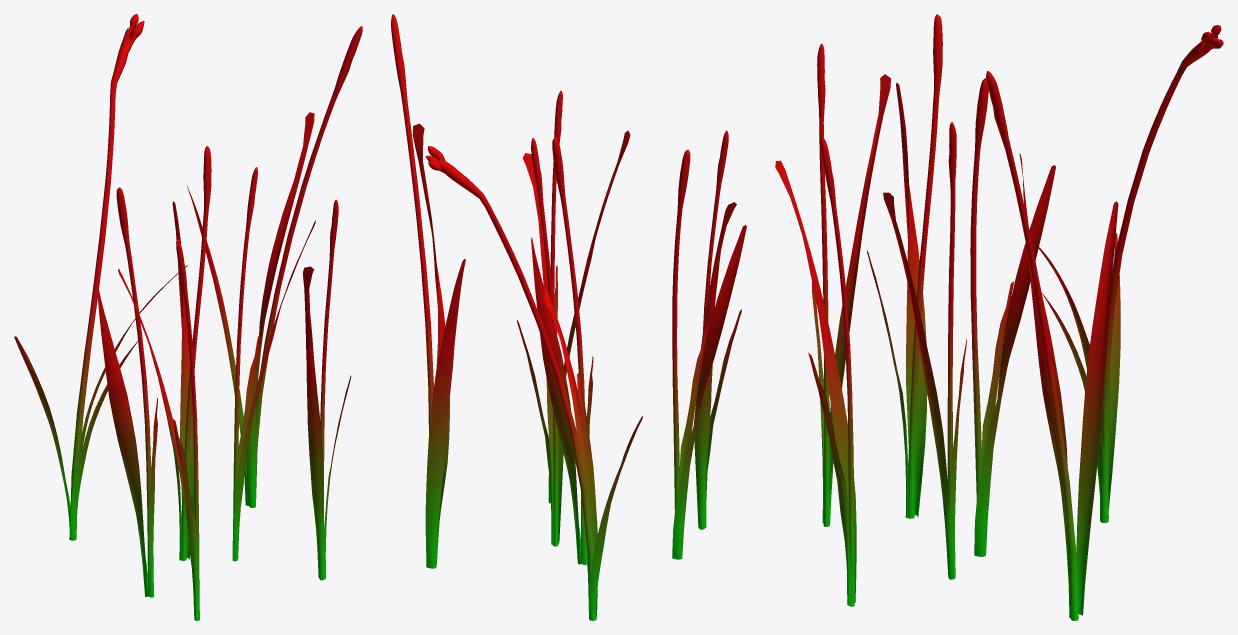
The model's file is Rush Daffodil_LOD0_Var20_wftgfjaia.fbx.
The picture shows the model from 3 angles, left to right: view 1: azimuth 30°, elevation 25°; view 2: azimuth 150°, elevation 25°; view 3: azimuth 270°, elevation 25°; orthographic projection. The views are drawn at different scales.
Parts seen in each view (by area): view 1: _rggi_var20_LOD0; view 2: _rggi_var20_LOD0; view 3: _rggi_var20_LOD0.
Boxes of the visible parts, box(x1,y1,x2,y2) form: _rggi_var20_LOD0: box(14, 14, 362, 620); _rggi_var20_LOD0: box(391, 14, 746, 620); _rggi_var20_LOD0: box(775, 14, 1223, 620).
Size of the model in its own units: 21.03 by 32.35 by 22.19.
